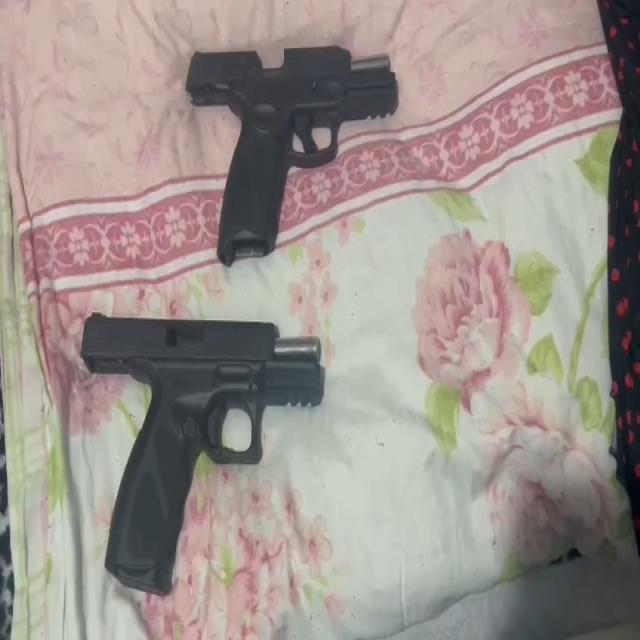guns: (81, 312, 325, 590), (185, 49, 398, 258)
